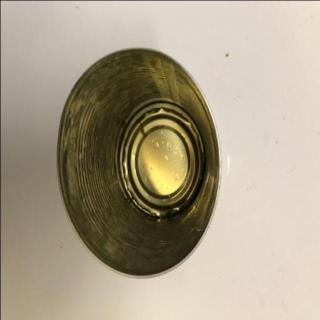Anorganik: (55, 45, 222, 283)
